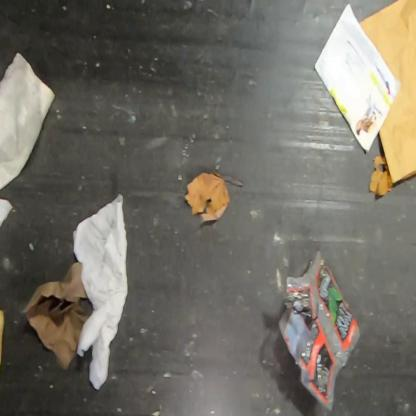soft_plastic: (276, 248, 363, 412)
